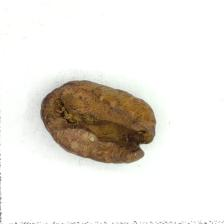NG: (64, 101, 154, 160)
